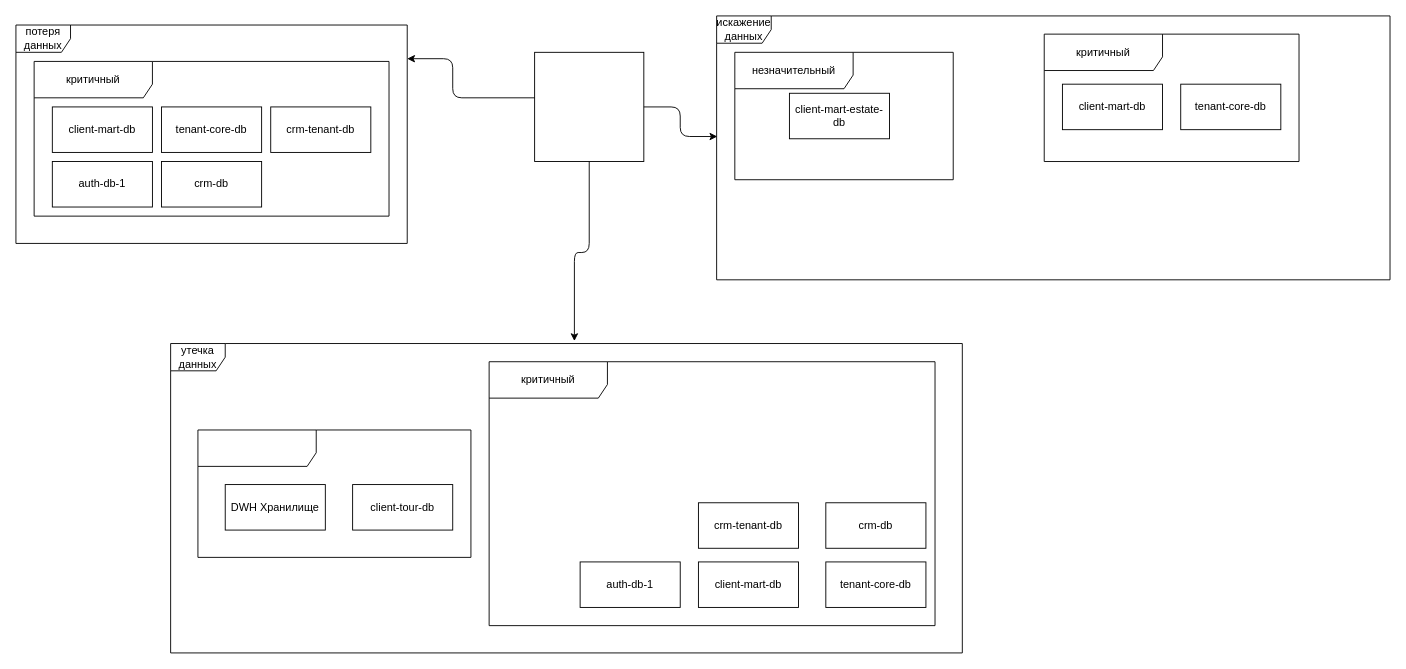
This 1406x669 diagram has some shape labels left out. Each missing label, with the centre of its shape:
Безопасность данных: pixel 589 106
значительный: pixel 334 493
